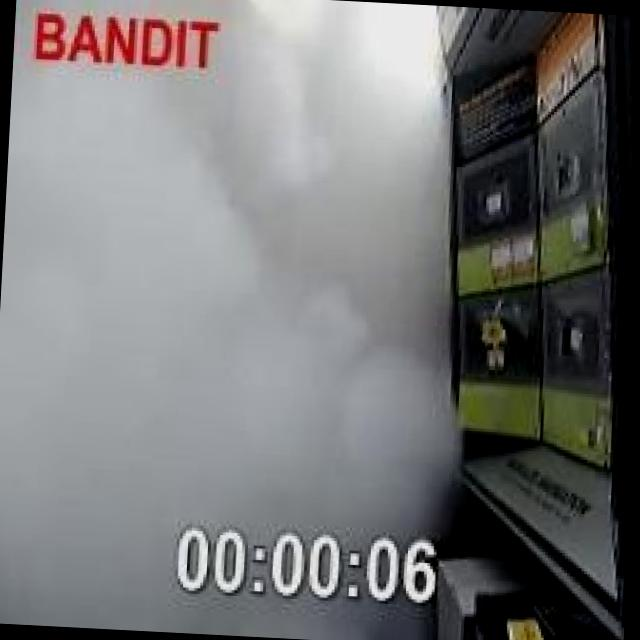smoke: (0, 0, 493, 583)
